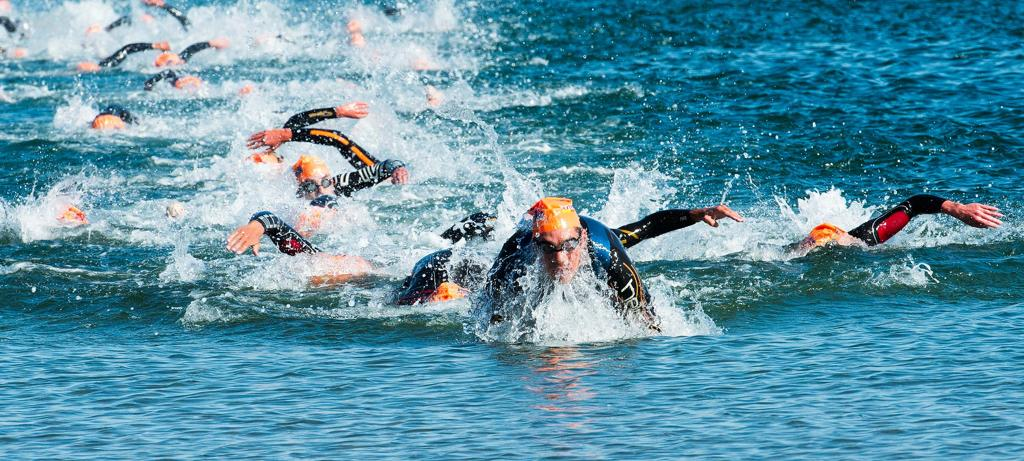face: (538, 227, 580, 284), (300, 168, 333, 206)
